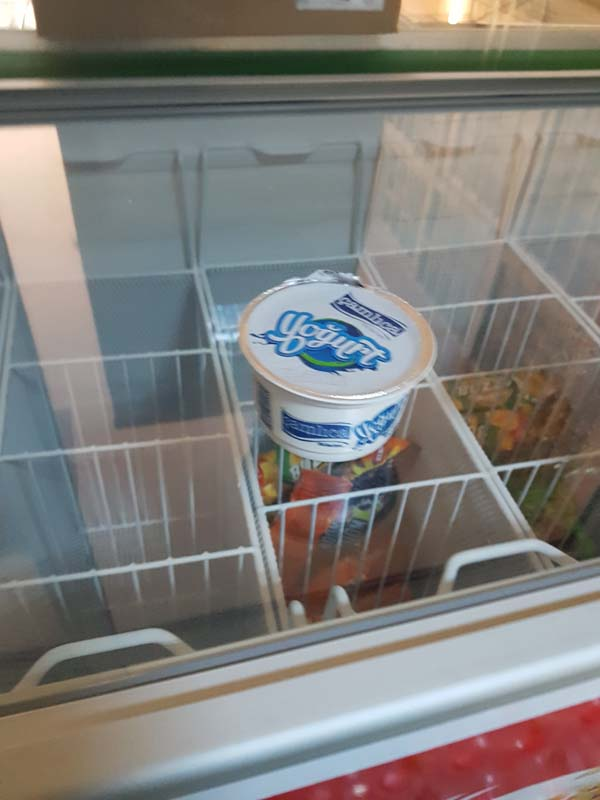camlicayogurt: (235, 261, 447, 455)
